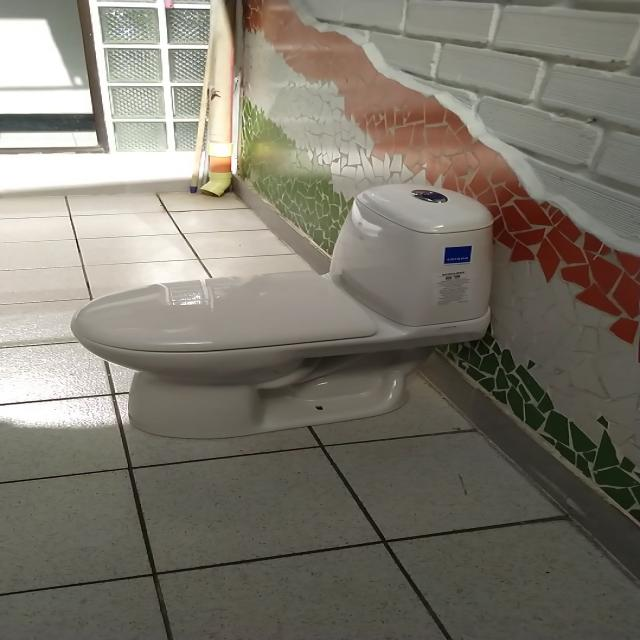toilet: (70, 182, 494, 440)
